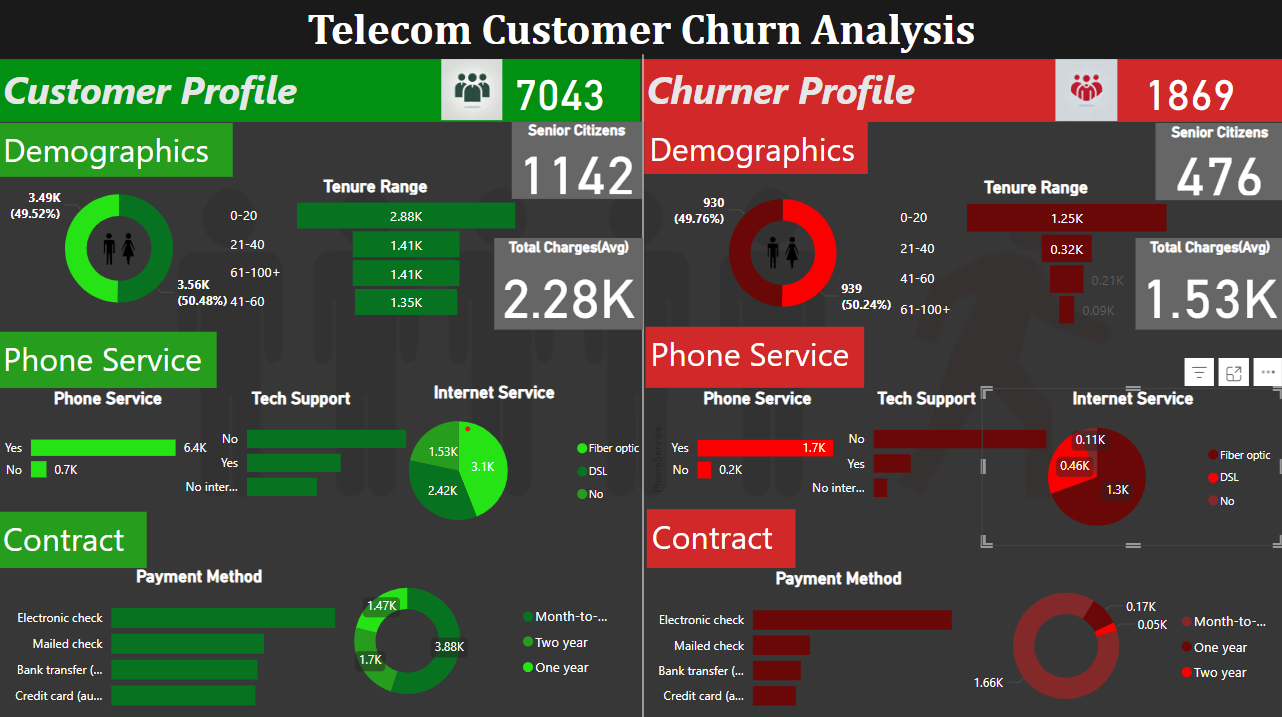

This screenshot's page, from the dashboard's own definition file:
{"tool":"powerbi","page":{"name":"Dashboard","canvas":[1280,720],"ordinal":0},"visuals":[{"type":"textbox","box":[0,0,1280,61],"z":0},{"type":"textbox","box":[0,61,639.4,62.2],"z":1000},{"type":"textbox","box":[640.6,61,639.4,62.2],"z":2000},{"type":"shape","box":[604.6,56,74.6,664.3],"z":3000},{"type":"card","fields":{"Values":["Telco-Customer-Churn (2).totalCustomers"]},"box":[493.9,61,130.6,62.2],"z":4000},{"type":"card","fields":{"Values":["Telco-Customer-Churn (2).totalChurners"]},"box":[1122.1,64.7,128.1,54.7],"z":5000},{"type":"image","box":[960.3,56,246.3,71],"z":6000},{"type":"image","box":[348.3,56,246.3,70.9],"z":7000},{"type":"textbox","box":[0,124.4,233.9,53.5],"z":8000},{"type":"textbox","box":[643.1,123.2,222.7,52.2],"z":9000},{"type":"textbox","box":[0,332.1,217.7,56],"z":10000},{"type":"textbox","box":[0,511.3,148,56],"z":11000},{"type":"textbox","box":[644.4,327.2,217.7,61],"z":12000},{"type":"textbox","box":[645.6,508.8,148,58.5],"z":13000},{"type":"donutChart","title":"CustomerMvF","fields":{"Category":["Telco-Customer-Churn (2).gender"],"Y":["CountNonNull(Telco-Customer-Churn (2).customerID)"]},"box":[7.5,171.7,226.4,155.5],"z":14000},{"type":"funnel","title":"Tenure Range","fields":{"Y":["CountNonNull(Telco-Customer-Churn (2).customerID)"],"Category":["Telco-Customer-Churn (2).TenureRange"]},"box":[226.4,176.6,298.6,146.8],"z":15000},{"type":"card","title":"Senior Citizens","fields":{"Values":["Telco-Customer-Churn (2).CustomerSenior"]},"box":[511.3,123.2,129.4,77.1],"z":16000},{"type":"donutChart","title":"CustomerMvF","fields":{"Category":["Telco-Customer-Churn (2).gender"],"Y":["CountNonNull(Telco-Customer-Churn (2).customerID)"]},"box":[658.1,177.9,246.3,151.8],"z":17000},{"type":"funnel","title":"Tenure Range","fields":{"Y":["CountNonNull(Telco-Customer-Churn (2).customerID)"],"Category":["Telco-Customer-Churn (2).TenureRange"]},"box":[893.2,177.9,279.9,154.3],"z":18000},{"type":"card","title":"Senior Citizens","fields":{"Values":["Telco-Customer-Churn (2).CustomerSenior"]},"box":[1151.9,124.4,128.1,77.1],"z":19000},{"type":"barChart","title":"Phone Service","fields":{"Category":["Telco-Customer-Churn (2).PhoneService"],"Y":["CountNonNull(Telco-Customer-Churn (2).PhoneService)"]},"box":[0,388.1,218.9,114.4],"z":20000},{"type":"clusteredBarChart","title":"Tech Support","fields":{"Category":["Telco-Customer-Churn (2).TechSupport"],"Y":["CountNonNull(Telco-Customer-Churn (2).customerID)"]},"box":[167.9,388.1,267.5,123.2],"z":21000},{"type":"barChart","title":"Phone Service","fields":{"Category":["Telco-Customer-Churn (2).PhoneService"],"Y":["CountNonNull(Telco-Customer-Churn (2).PhoneService)"]},"box":[645.6,388.1,220.2,115.7],"z":22000},{"type":"clusteredBarChart","title":"Tech Support","fields":{"Category":["Telco-Customer-Churn (2).TechSupport"],"Y":["CountNonNull(Telco-Customer-Churn (2).customerID)"]},"box":[793.6,388.1,261.2,124.4],"z":23000},{"type":"pieChart","title":"Internet Service","fields":{"Category":["Telco-Customer-Churn (2).InternetService"],"Y":["CountNonNull(Telco-Customer-Churn (2).customerID)"]},"box":[335.9,381.9,316,158],"z":24000},{"type":"pieChart","title":"Internet Service","fields":{"Category":["Telco-Customer-Churn (2).InternetService"],"Y":["CountNonNull(Telco-Customer-Churn (2).customerID)"]},"box":[979,388.1,301,158],"z":24001},{"type":"donutChart","fields":{"Category":["Telco-Customer-Churn (2).Contract"],"Y":["CountNonNull(Telco-Customer-Churn (2).customerID)"]},"box":[288.6,564.8,335.9,150.5],"z":24002},{"type":"donutChart","fields":{"Category":["Telco-Customer-Churn (2).Contract"],"Y":["CountNonNull(Telco-Customer-Churn (2).customerID)"]},"box":[944.2,569.7,335.9,150.5],"z":24003},{"type":"barChart","title":"Payment Method","fields":{"Category":["Telco-Customer-Churn (2).PaymentMethod"],"Y":["CountNonNull(Telco-Customer-Churn (2).customerID)"]},"box":[0,564.8,400.6,155.5],"z":24004},{"type":"barChart","title":"Payment Method","fields":{"Category":["Telco-Customer-Churn (2).PaymentMethod"],"Y":["CountNonNull(Telco-Customer-Churn (2).customerID)"]},"box":[639.4,567.2,394.3,153],"z":24005},{"type":"image","box":[89.6,220.2,62.2,59.7],"z":24006},{"type":"image","box":[750.1,223.9,62.2,59.7],"z":24007},{"type":"card","title":"Total Charges(Avg)","fields":{"Values":["Telco-Customer-Churn (2).CustomerTotalCharges"]},"box":[493.9,238.8,148,90.8],"z":24008},{"type":"card","title":"Total Charges(Avg)","fields":{"Values":["Telco-Customer-Churn (2).CustomerTotalCharges"]},"box":[1132,238.8,148,90.8],"z":24009}]}

Visuals, with their boxes in screenshot pixels (x1, y1, x2, y2), scaled from the page's 1280x720 canvas onto the 1282x717 screenshot:
textbox: {"x1": 0, "y1": 0, "x2": 1281, "y2": 61}
textbox: {"x1": 0, "y1": 61, "x2": 640, "y2": 123}
textbox: {"x1": 642, "y1": 61, "x2": 1281, "y2": 123}
shape: {"x1": 606, "y1": 56, "x2": 680, "y2": 716}
card - Telco-Customer-Churn (2).totalCustomers: {"x1": 495, "y1": 61, "x2": 625, "y2": 123}
card - Telco-Customer-Churn (2).totalChurners: {"x1": 1124, "y1": 64, "x2": 1252, "y2": 119}
image: {"x1": 962, "y1": 56, "x2": 1208, "y2": 126}
image: {"x1": 349, "y1": 56, "x2": 596, "y2": 126}
textbox: {"x1": 0, "y1": 124, "x2": 234, "y2": 177}
textbox: {"x1": 644, "y1": 123, "x2": 867, "y2": 175}
textbox: {"x1": 0, "y1": 331, "x2": 218, "y2": 386}
textbox: {"x1": 0, "y1": 509, "x2": 148, "y2": 565}
textbox: {"x1": 645, "y1": 326, "x2": 863, "y2": 387}
textbox: {"x1": 647, "y1": 507, "x2": 795, "y2": 565}
"CustomerMvF" donutChart: {"x1": 8, "y1": 171, "x2": 234, "y2": 326}
"Tenure Range" funnel: {"x1": 227, "y1": 176, "x2": 526, "y2": 322}
"Senior Citizens" card: {"x1": 512, "y1": 123, "x2": 642, "y2": 199}
"CustomerMvF" donutChart: {"x1": 659, "y1": 177, "x2": 906, "y2": 328}
"Tenure Range" funnel: {"x1": 895, "y1": 177, "x2": 1175, "y2": 331}
"Senior Citizens" card: {"x1": 1154, "y1": 124, "x2": 1281, "y2": 201}
"Phone Service" barChart: {"x1": 0, "y1": 386, "x2": 219, "y2": 500}
"Tech Support" clusteredBarChart: {"x1": 168, "y1": 386, "x2": 436, "y2": 509}
"Phone Service" barChart: {"x1": 647, "y1": 386, "x2": 867, "y2": 502}
"Tech Support" clusteredBarChart: {"x1": 795, "y1": 386, "x2": 1056, "y2": 510}
"Internet Service" pieChart: {"x1": 336, "y1": 380, "x2": 653, "y2": 538}
"Internet Service" pieChart: {"x1": 981, "y1": 386, "x2": 1281, "y2": 544}
donutChart - Telco-Customer-Churn (2).Contract x CountNonNull(Telco-Customer-Churn (2).customerID): {"x1": 289, "y1": 562, "x2": 625, "y2": 712}
donutChart - Telco-Customer-Churn (2).Contract x CountNonNull(Telco-Customer-Churn (2).customerID): {"x1": 946, "y1": 567, "x2": 1281, "y2": 716}
"Payment Method" barChart: {"x1": 0, "y1": 562, "x2": 401, "y2": 716}
"Payment Method" barChart: {"x1": 640, "y1": 565, "x2": 1035, "y2": 716}
image: {"x1": 90, "y1": 219, "x2": 152, "y2": 279}
image: {"x1": 751, "y1": 223, "x2": 814, "y2": 282}
"Total Charges(Avg)" card: {"x1": 495, "y1": 238, "x2": 643, "y2": 328}
"Total Charges(Avg)" card: {"x1": 1134, "y1": 238, "x2": 1281, "y2": 328}
